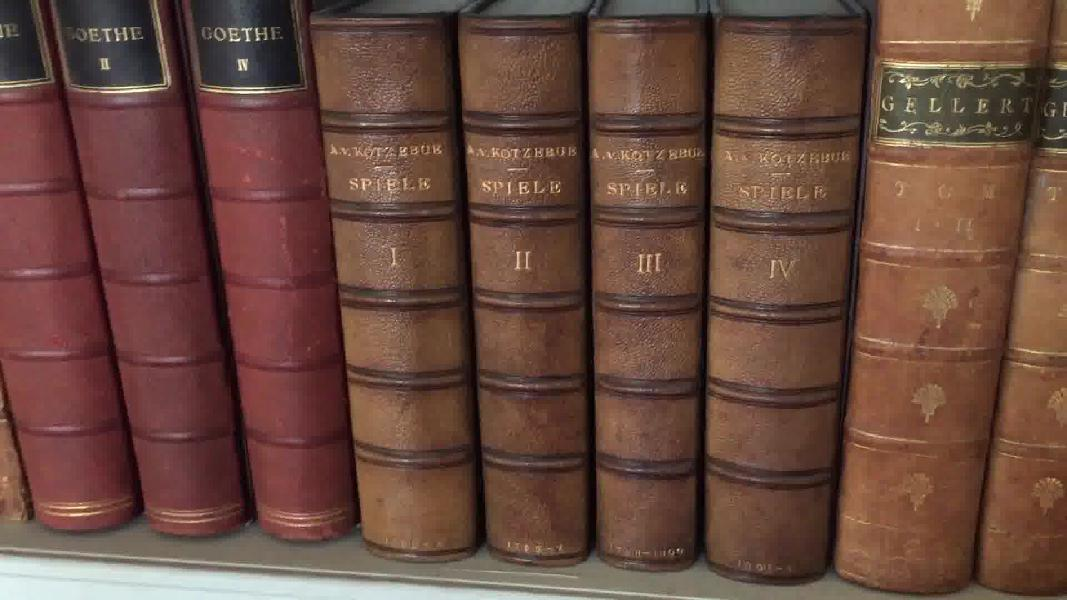Aa6-11_13: (2, 9, 358, 547)
Aa6-14_17: (305, 16, 872, 600)
